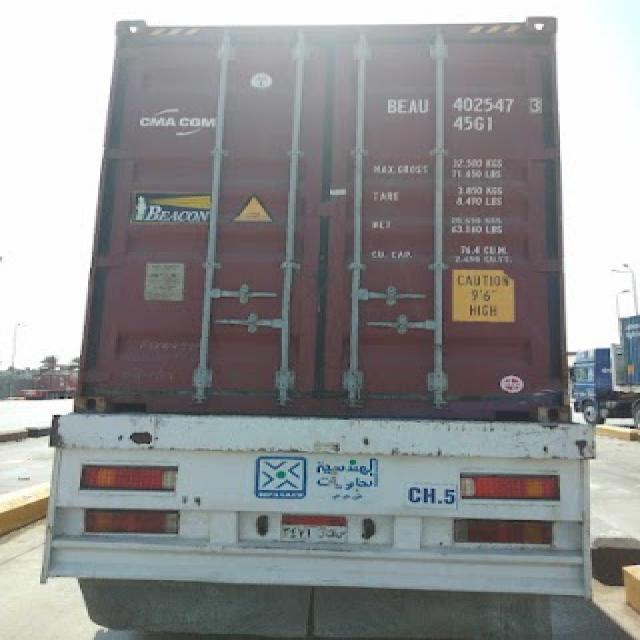ISO: (452, 115, 497, 135)
container_number: (390, 96, 546, 115)
